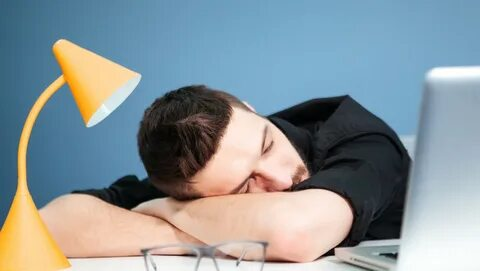sleep: (36, 83, 414, 263)
